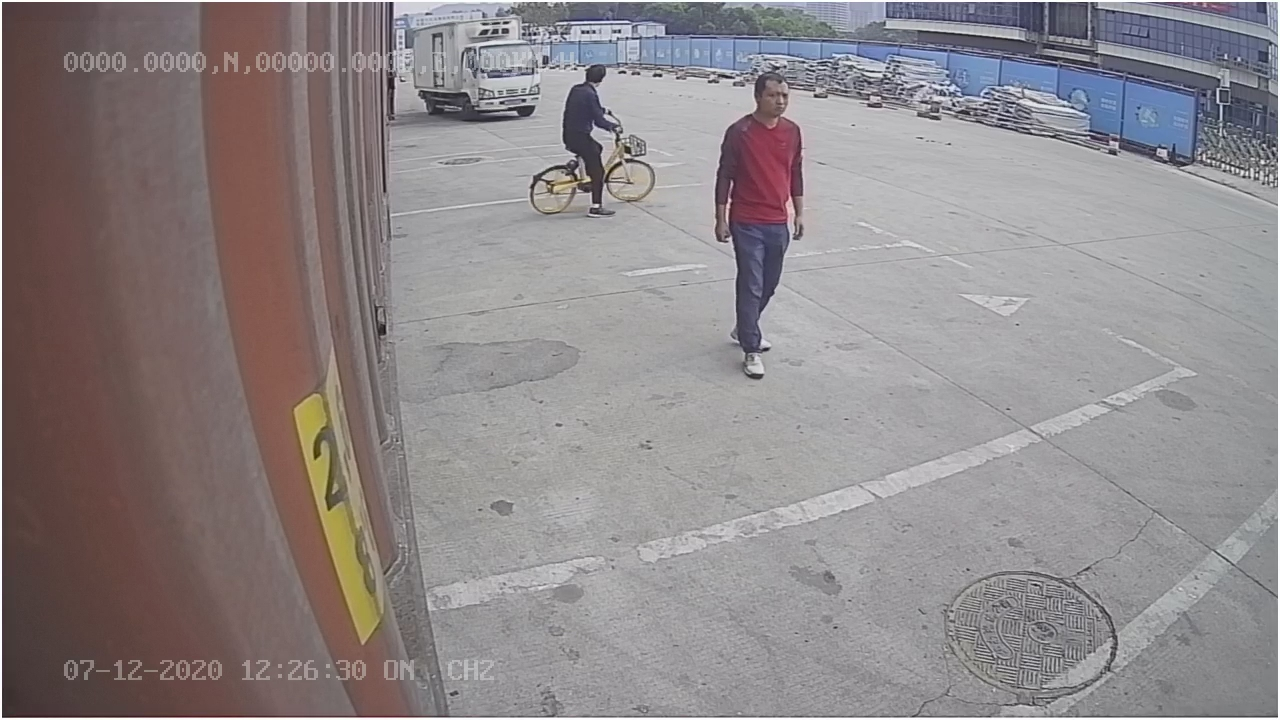person: (707, 69, 812, 386)
